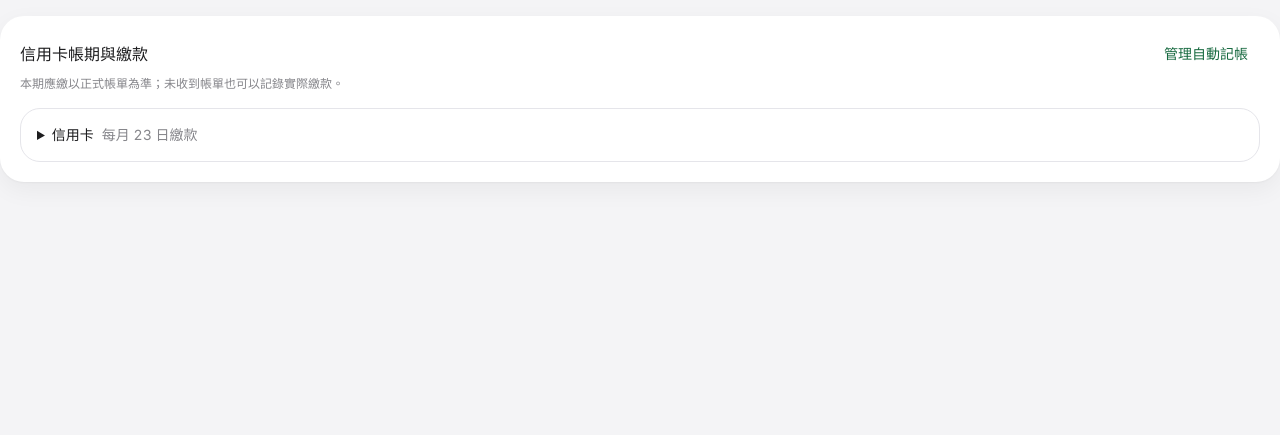
Scenario: explains why an imported debit needs review
Click the text "信用卡" at (73, 134), box [52,126,94,143]
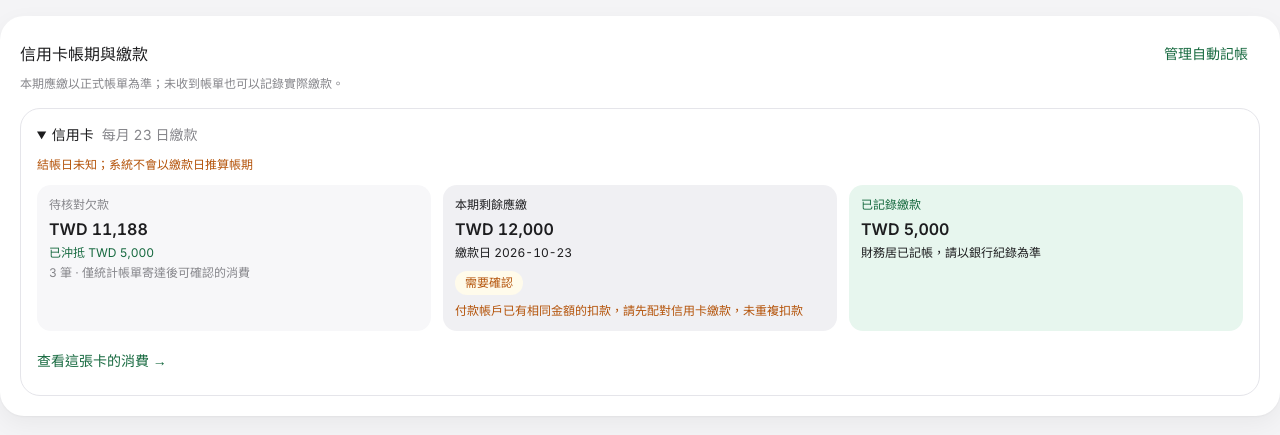
Result: the text "需要確認" is shown at [455,271,523,295]
Result: the text "付款帳戶已有相同金額的扣款，請先配對信用卡繳款，未重複扣款" is shown at [455,303,825,319]
